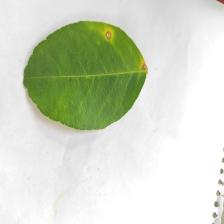greening: (21, 20, 154, 134)
